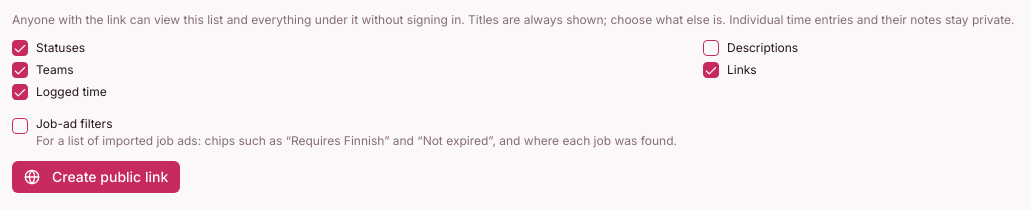
Test case: public link attribute choices › shows a stored choice, and saves a change through the RPC
This screenshot has width=1031, height=210.
Expected: the text "Individual time entries" is shown, x1=726 y1=12 x2=1015 y2=27
Click the checkbox named "Logged time" next to "Logged time": (20, 92) x1=12 y1=84 x2=28 y2=100
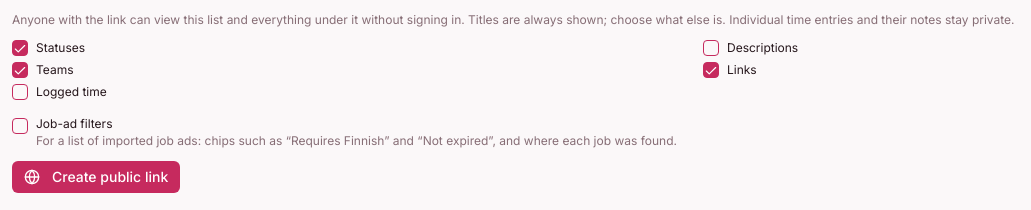
Now the checkbox named "Logged time" next to "Logged time" has attribute data-state="unchecked", box x1=12 y1=84 x2=28 y2=100
